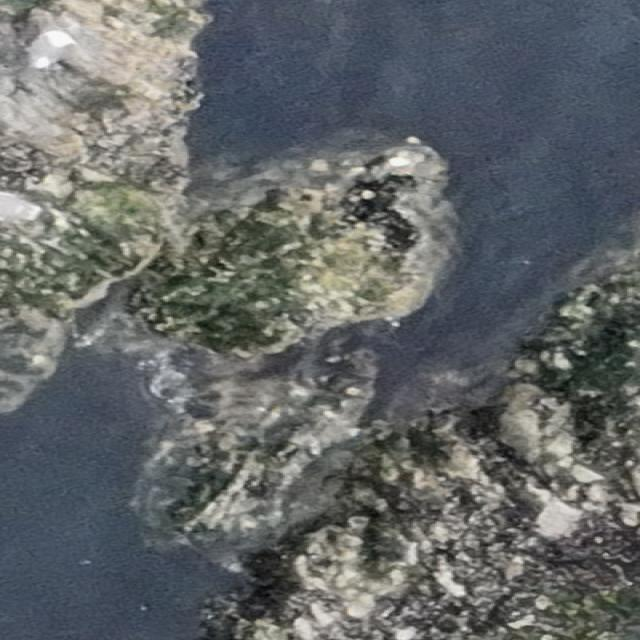umineko: (32, 32, 71, 72)
